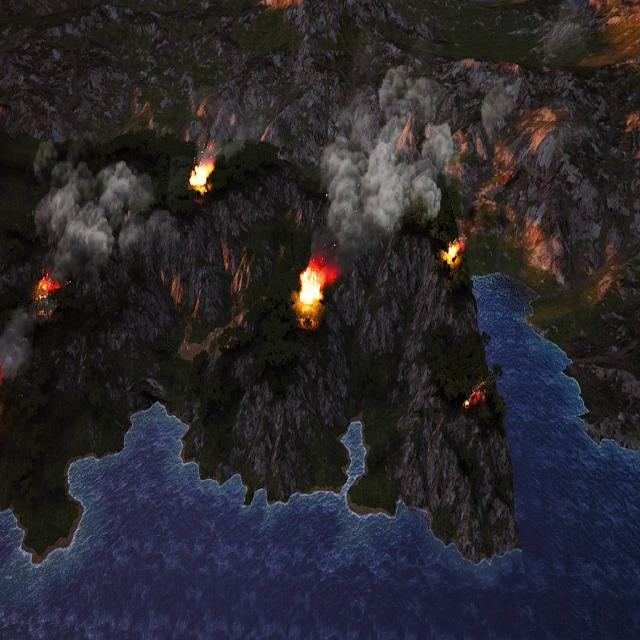fire: (298, 261, 336, 310), (36, 273, 60, 305), (188, 160, 212, 190), (444, 239, 464, 265), (462, 387, 484, 409)
smoke: (316, 62, 454, 249), (31, 155, 171, 279), (0, 307, 30, 384)
